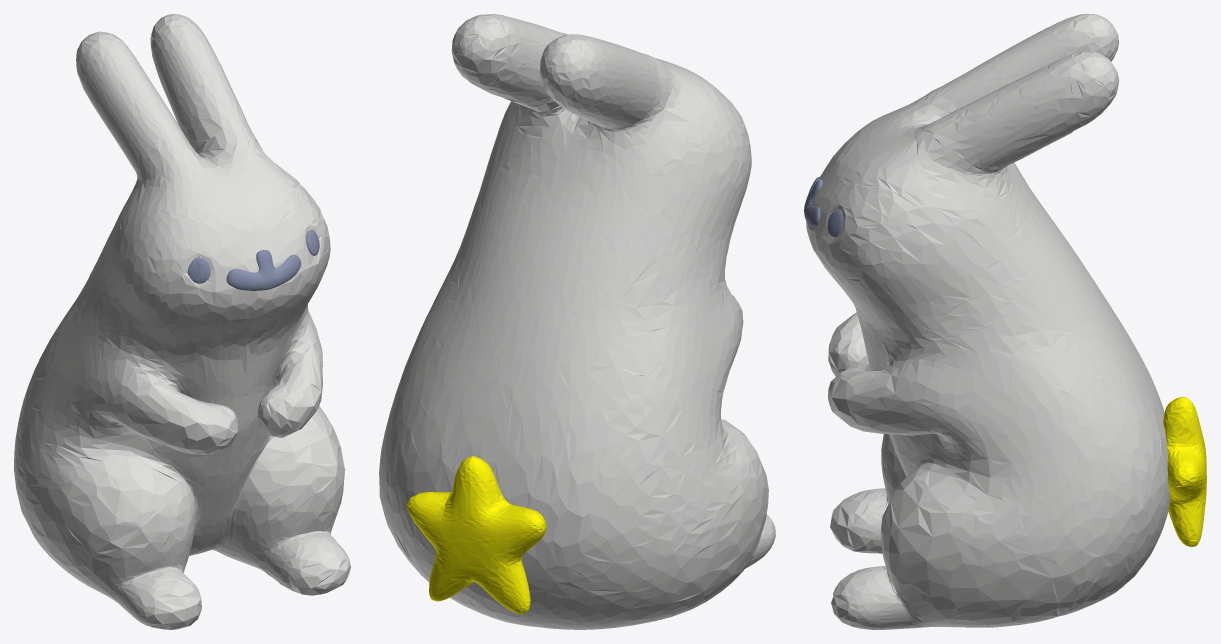
Rendered from mianhuatang.glb.
The picture shows the model from 3 angles, left to right: view 1: azimuth 30°, elevation 25°; view 2: azimuth 150°, elevation 25°; view 3: azimuth 270°, elevation 25°; orthographic projection. The views are drawn at different scales.
Visible parts, largest first — view 1: Tuzi_3, Tuzi_1, Tuzi_2; view 2: Tuzi_3, Tuzi; view 3: Tuzi_3, Tuzi.
Part boxes in pixels (bbox=[...]): Tuzi_3: bbox=[14, 14, 350, 629]; Tuzi_1: bbox=[226, 250, 301, 290]; Tuzi_2: bbox=[187, 230, 319, 283]; Tuzi_3: bbox=[379, 14, 775, 629]; Tuzi: bbox=[407, 456, 546, 614]; Tuzi_3: bbox=[806, 14, 1169, 629]; Tuzi: bbox=[1163, 397, 1206, 546].
Bounding box in the file's own units: 1.15 × 2 × 1.33.
